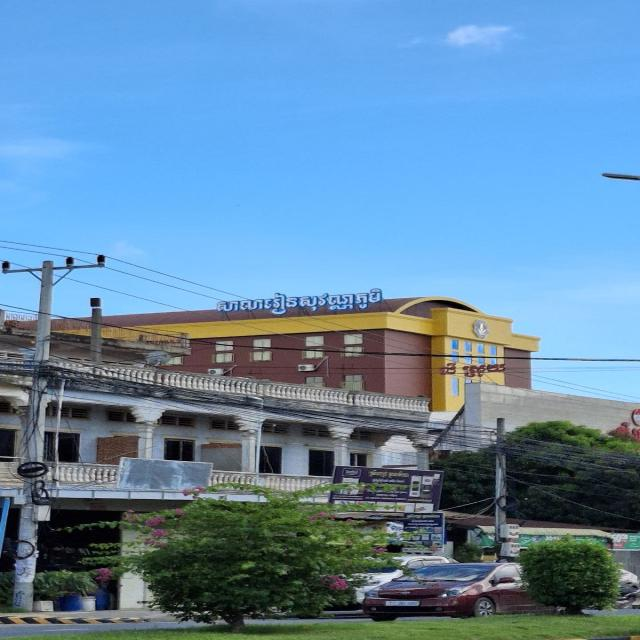Yolov11kh: (186, 275, 414, 326)
